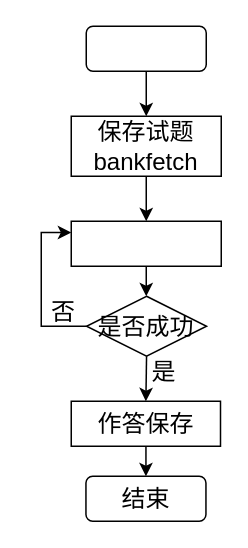
Image size: 248x548. Some labels were removed from this diagram. The shapes that lost their labels are listed below. From the top down, each one's centre as x and y in pixels, then its label:
(145,48): 开始
(145,243): 试题抽取
